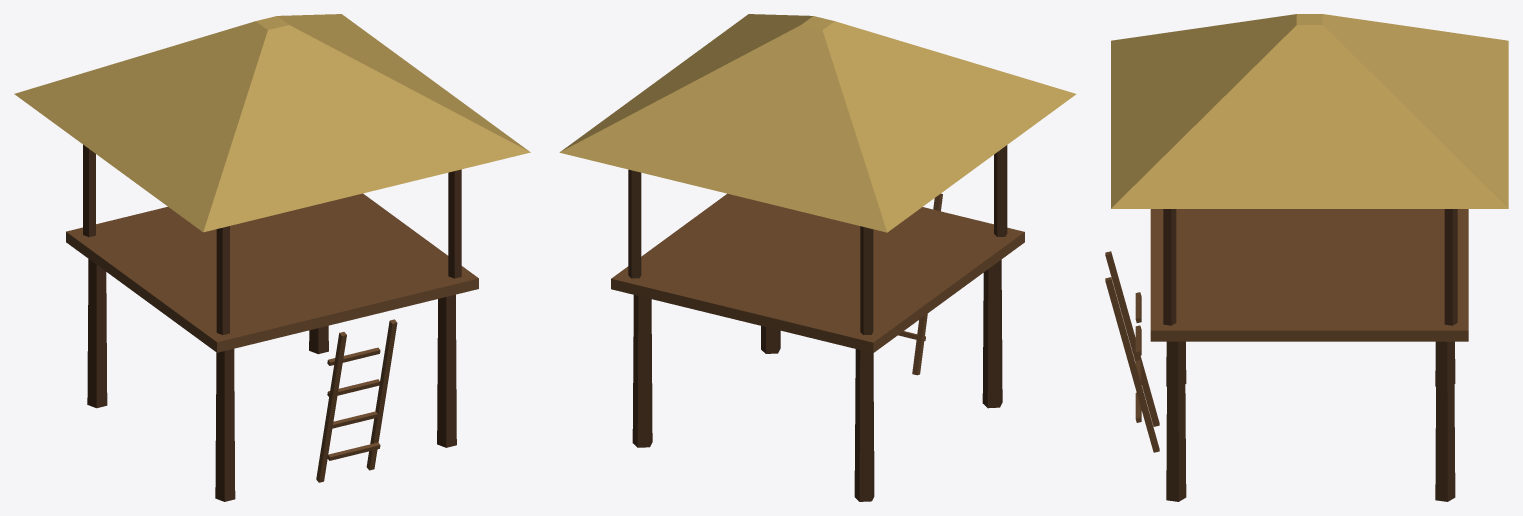
File: prop_wonduumak.glb
3 renders of one model, left to right at view 1: azimuth 30°, elevation 25°; view 2: azimuth 150°, elevation 25°; view 3: azimuth 270°, elevation 25°, orthographic. The views are drawn at different scales.
Visible parts, largest first — view 1: prop_wonduumak; view 2: prop_wonduumak; view 3: prop_wonduumak.
Part boxes in pixels (bbox=[...]): prop_wonduumak: bbox=[14, 14, 530, 501]; prop_wonduumak: bbox=[559, 14, 1076, 501]; prop_wonduumak: bbox=[1105, 14, 1508, 501].
Bounding box in the file's own units: 3.25 × 3.8 × 3.3.
